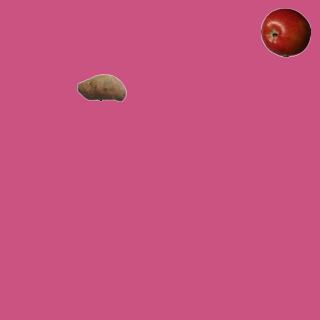Apple Braeburn: (260, 7, 310, 57)
Potato Sweet: (76, 62, 126, 112)
